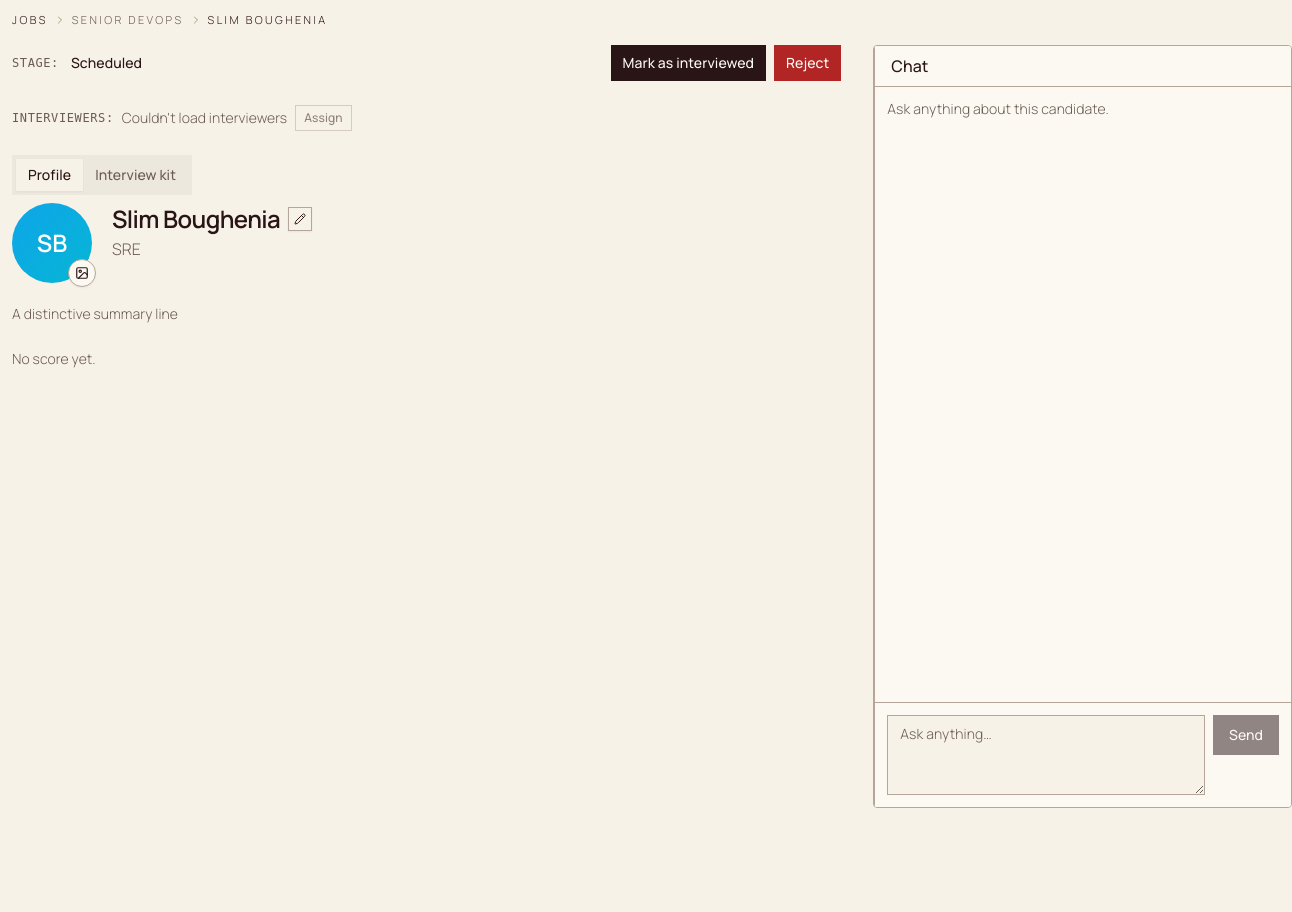
ApplicationDetail tabs › switches to the interview kit and back
Expected: the text "A distinctive summary line" is shown, [12, 304, 178, 322]
Click the tab "Interview kit" at (136,174), box [83, 158, 188, 190]
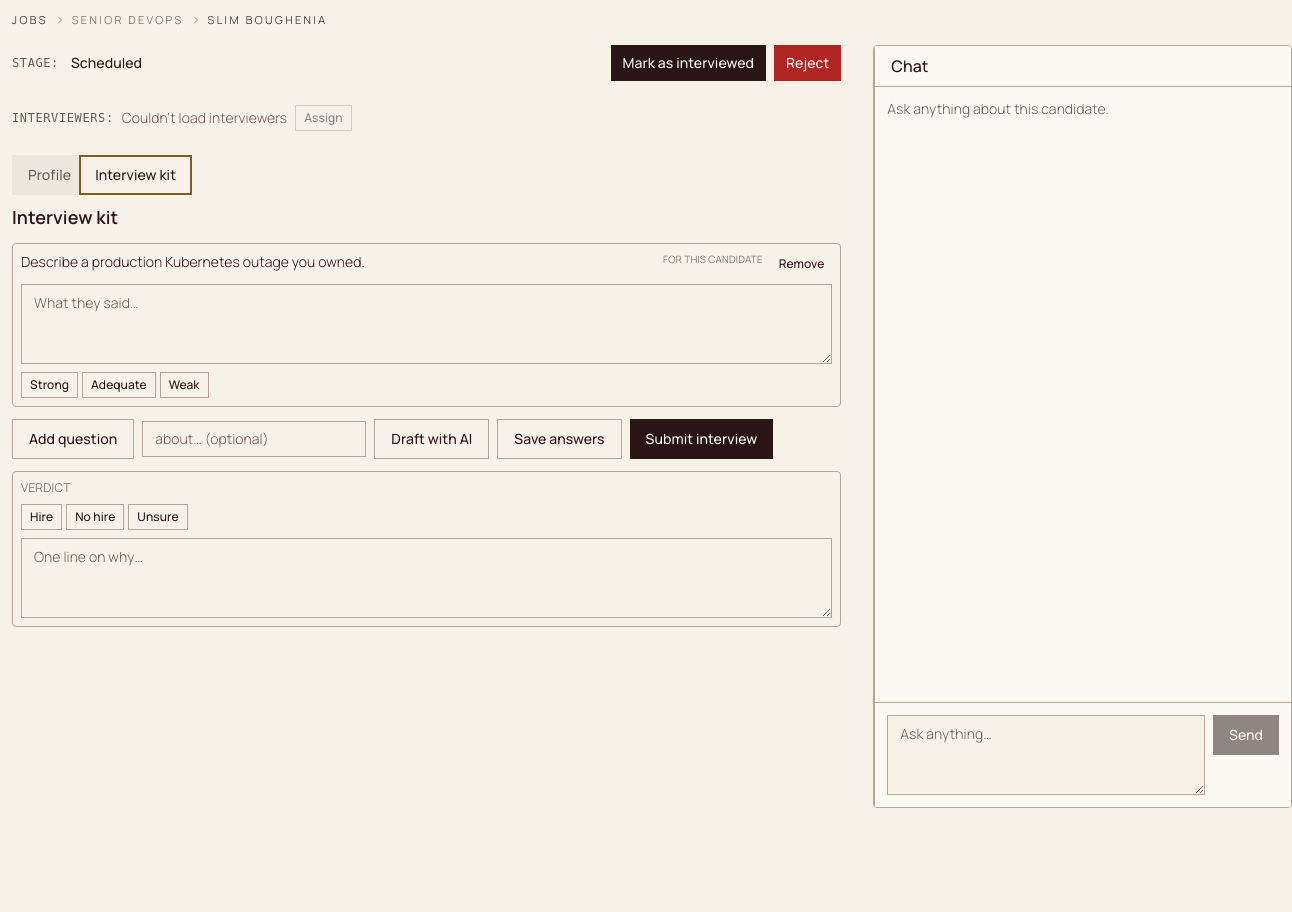
Expected: the text "scheduled" is shown, [71, 52, 142, 72]
Expected: the text box showing "Describe a production Kubernetes outage you owned." is shown, [21, 252, 655, 271]
Expected: the text "A distinctive summary line" is gone
Click the tab "Profile" at (50,174), box [16, 158, 83, 190]
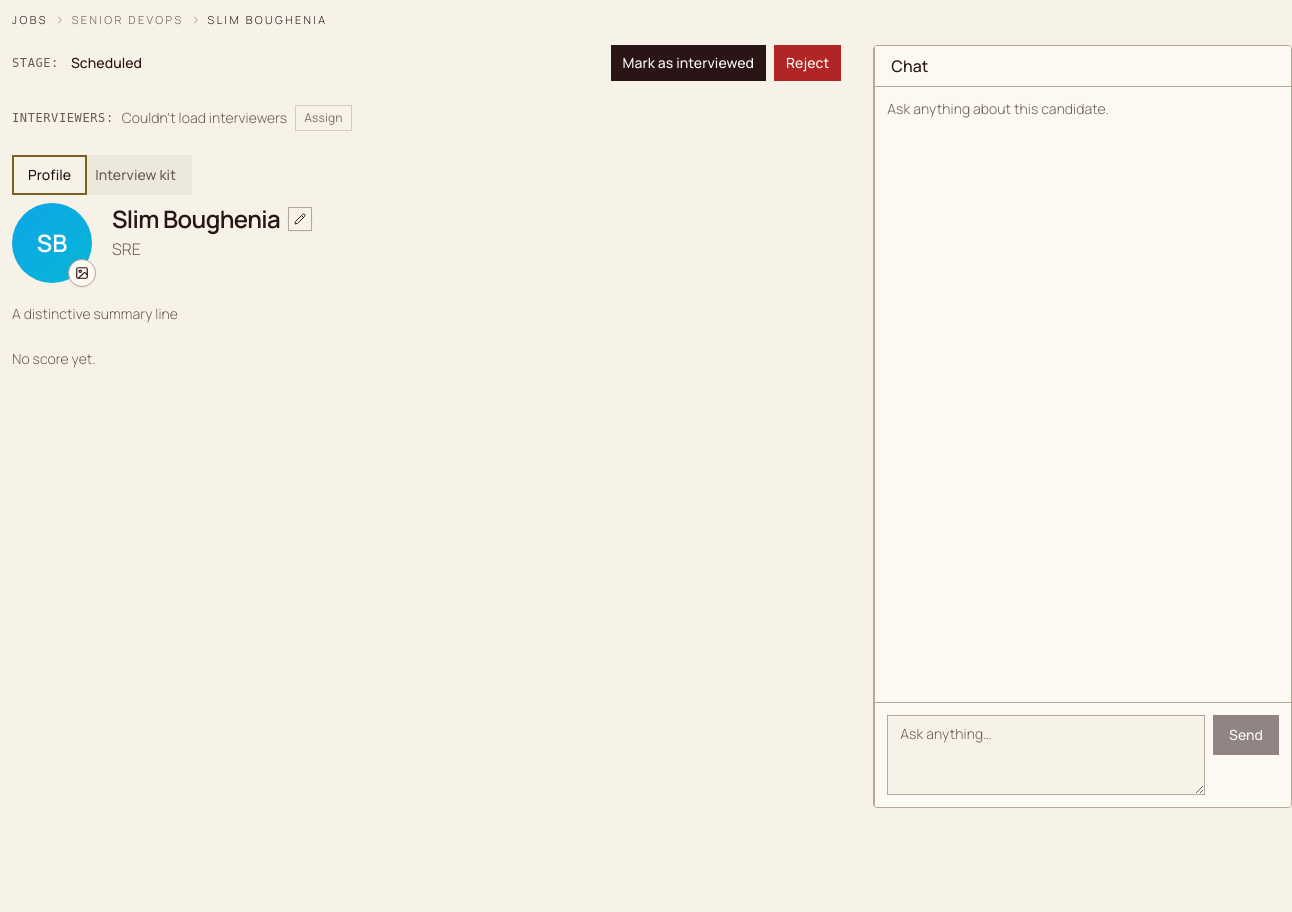
Expected: the text "A distinctive summary line" is shown, [12, 304, 178, 322]
